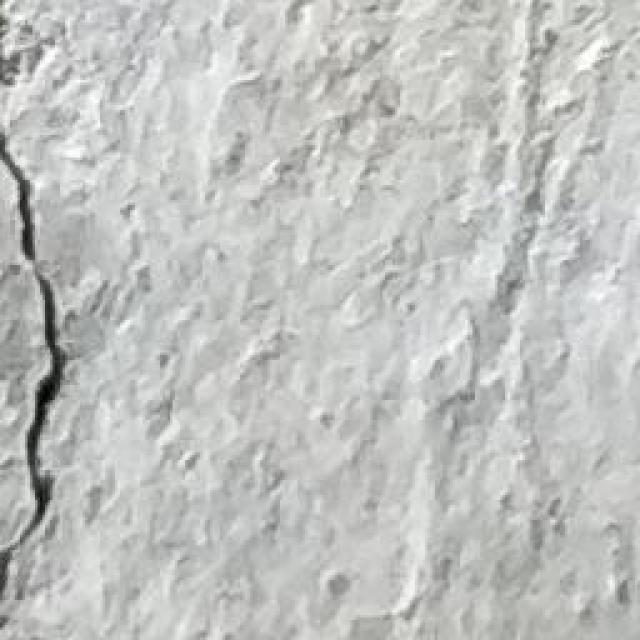Network: (0, 105, 69, 640)
Rippled: (142, 0, 640, 640)
